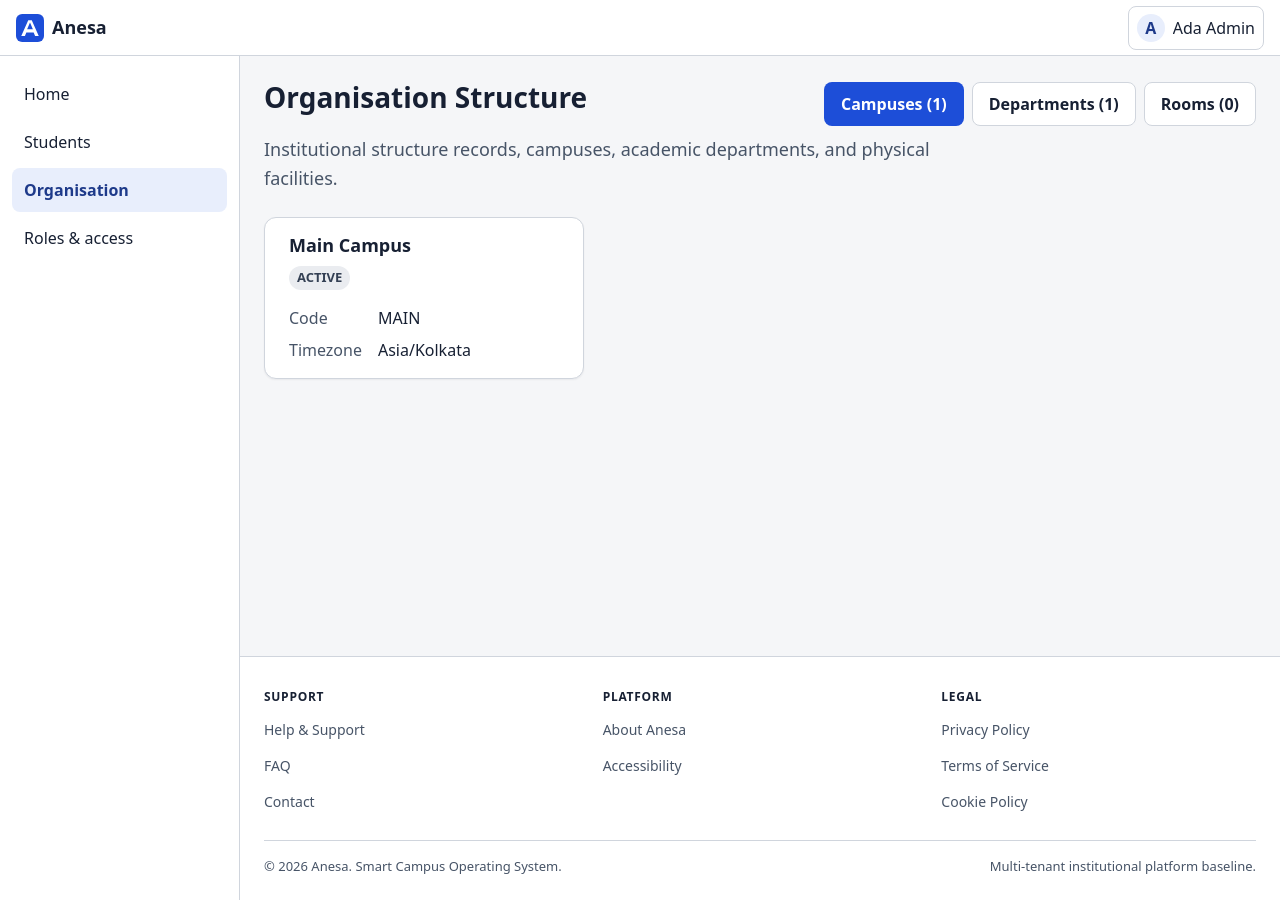
Scenario: Phase 1 Pages (Web Integration) › OrganisationPage › renders rooms tab and displays rooms list
Click the button "Rooms (0)" at (1200, 104), box 1144,82 -> 1256,126
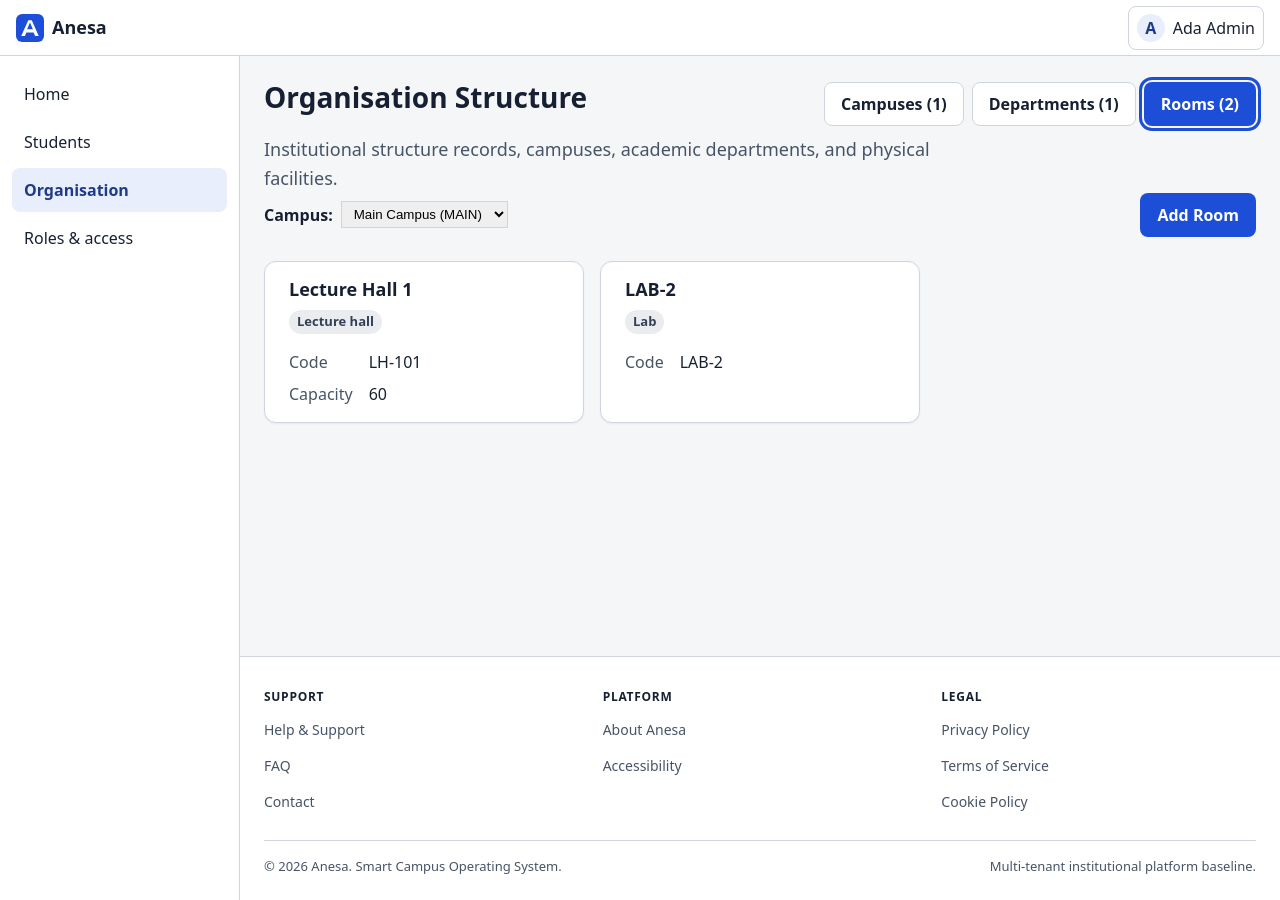
Expected: the heading "Lecture Hall 1" is shown, 289,277 -> 412,301
Expected: the text "LH-101" is shown, 369,351 -> 422,373
Expected: the text "Lecture hall" is shown, 289,310 -> 382,334
